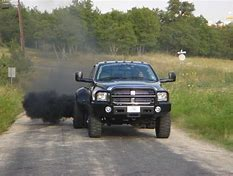smoke: (20, 85, 73, 124)
